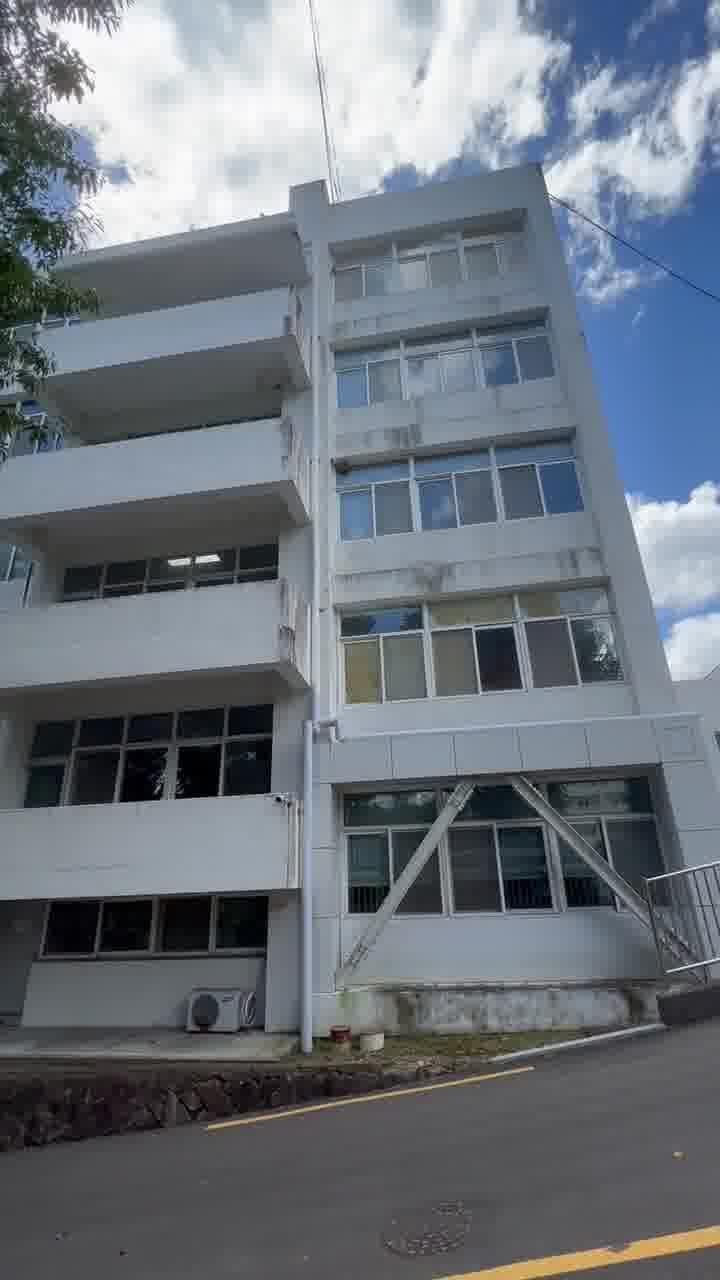building: (90, 158, 692, 1026)
